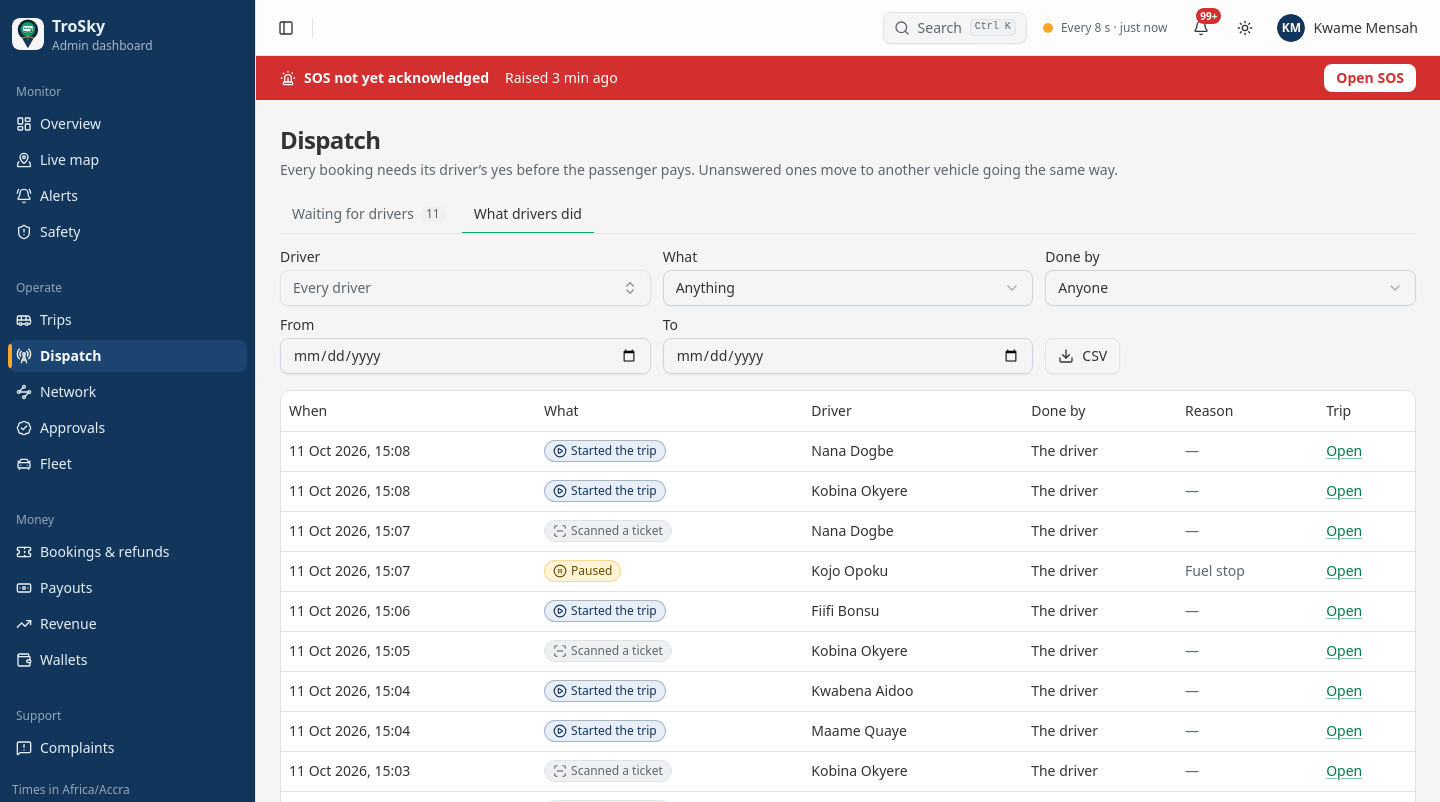
What drivers did › lists actions newest first, filtered by what was done
Click the dropdown named "What": coordinates (705, 288) x1=663 y1=270 x2=1033 y2=306
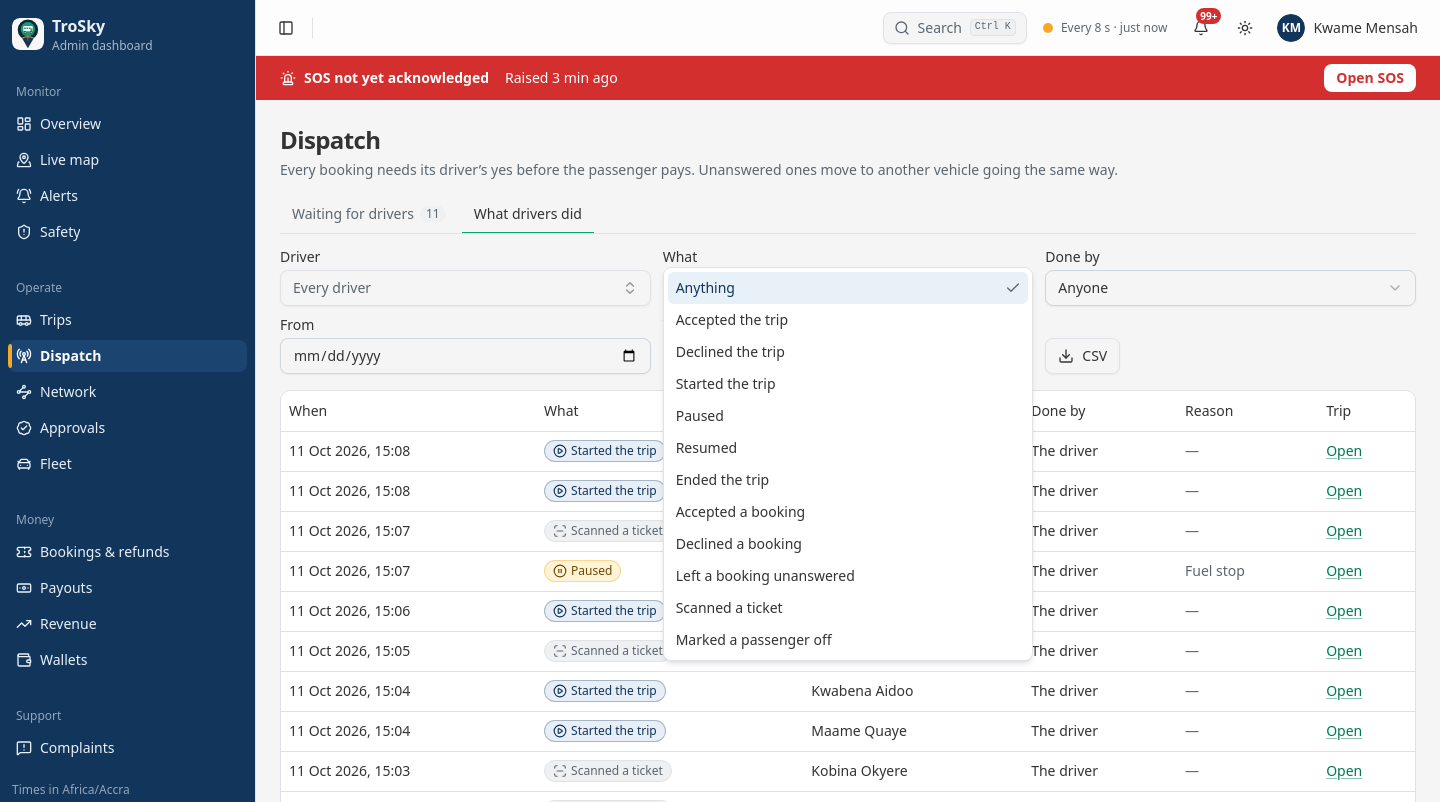
Click the option "Declined the trip": coordinates (730, 352) x1=676 y1=342 x2=785 y2=361
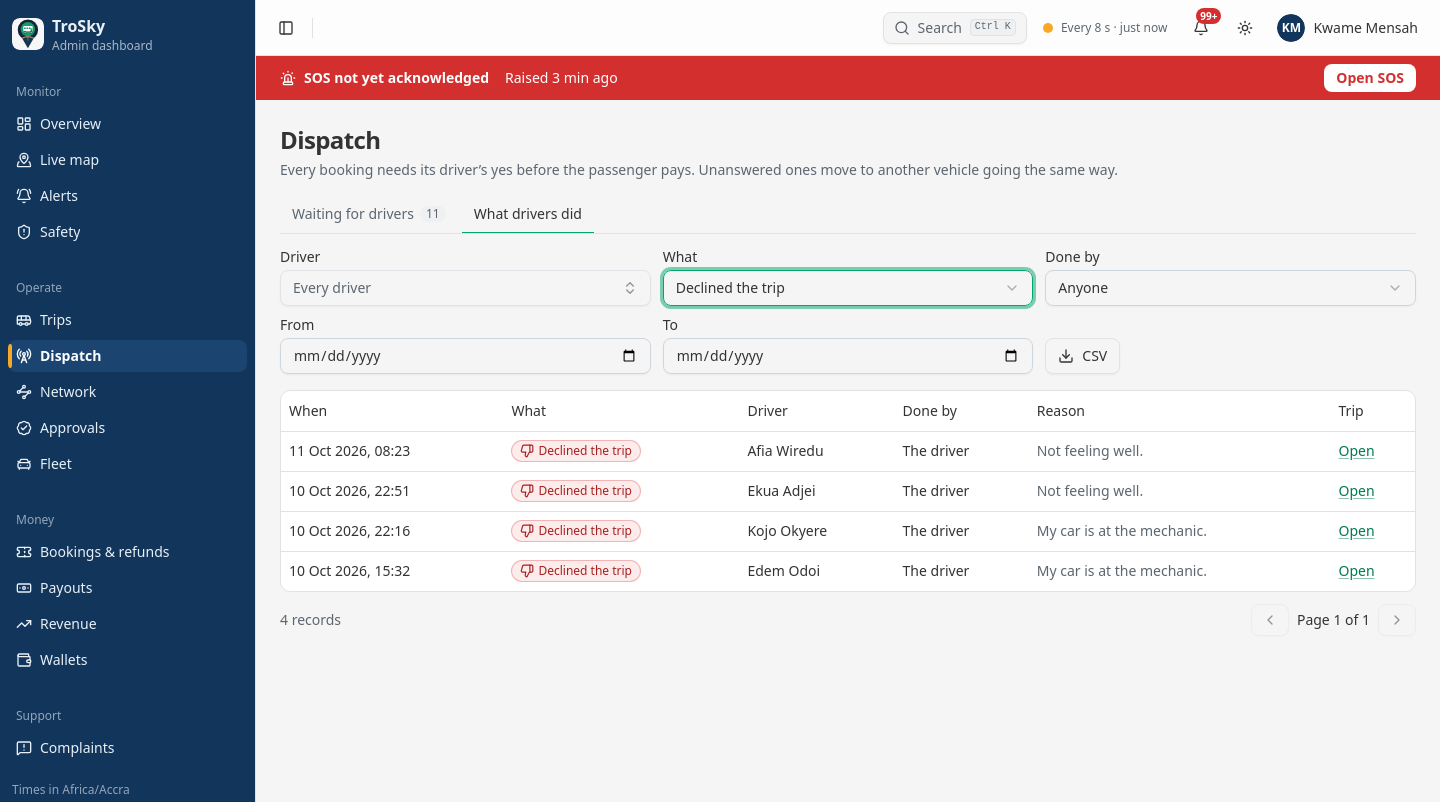
Check: the row that starts with "11 Oct 2026, 08:23" shows "Declined the trip", box x1=538 y1=442 x2=632 y2=458
Check: the row that starts with "10 Oct 2026, 22:51" shows "Declined the trip", box x1=538 y1=482 x2=632 y2=498
Check: the row that starts with "10 Oct 2026, 22:16" shows "Declined the trip", box x1=538 y1=522 x2=632 y2=538
